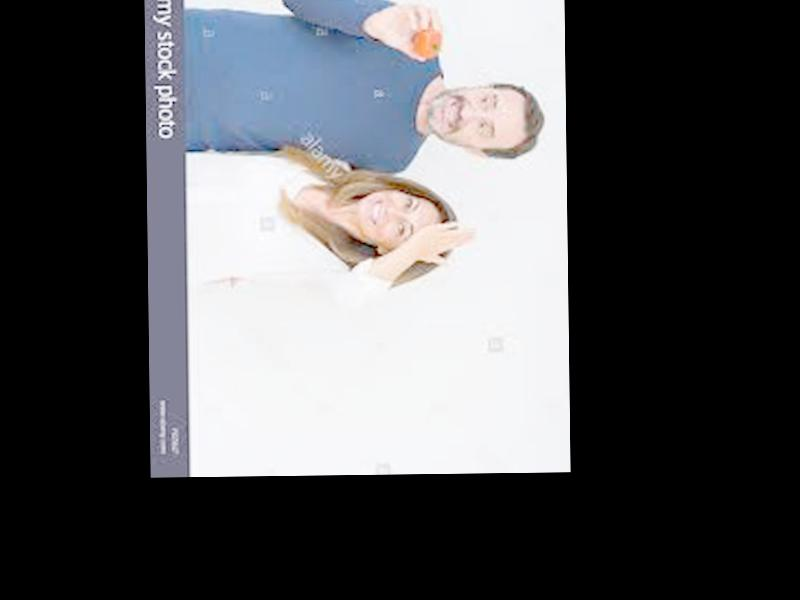Tomato: (414, 29, 445, 57)
